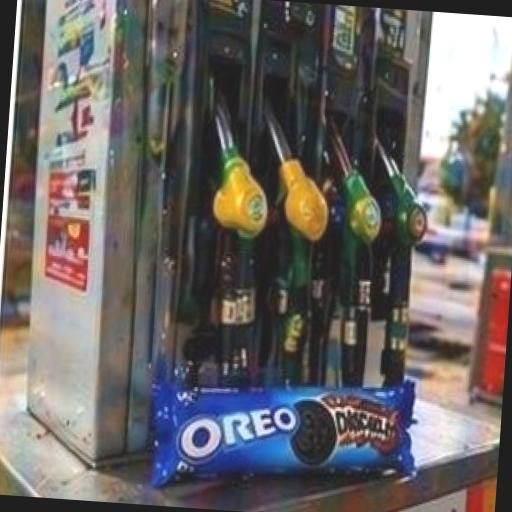oreo: (122, 295, 473, 512)
